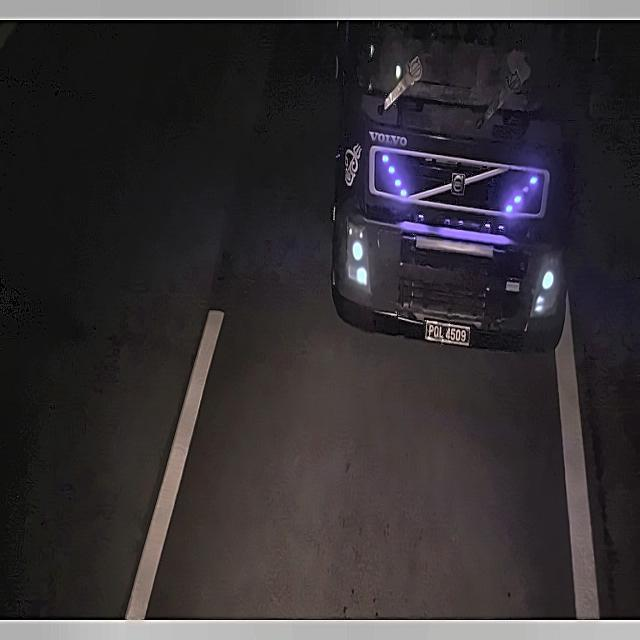car: (419, 319, 473, 352)
